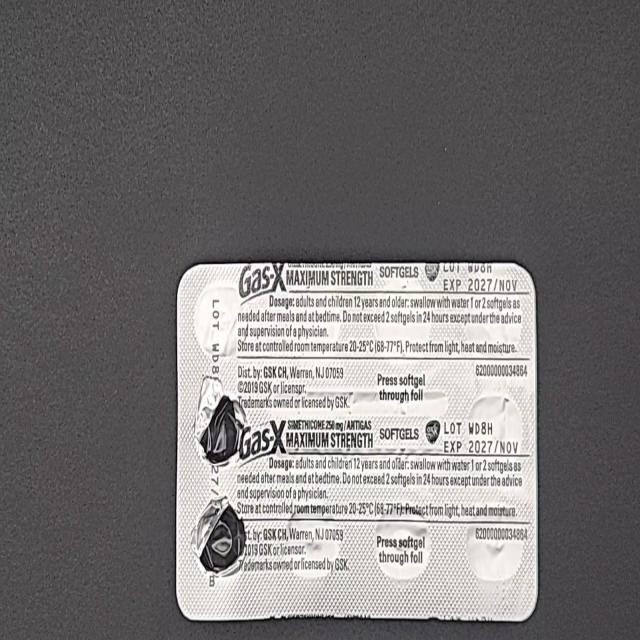defect: (193, 373, 249, 472), (188, 492, 248, 581)
